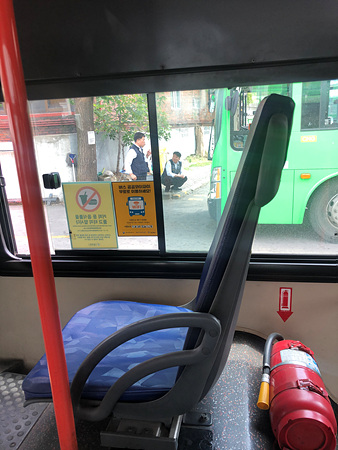seat: (31, 97, 289, 410)
